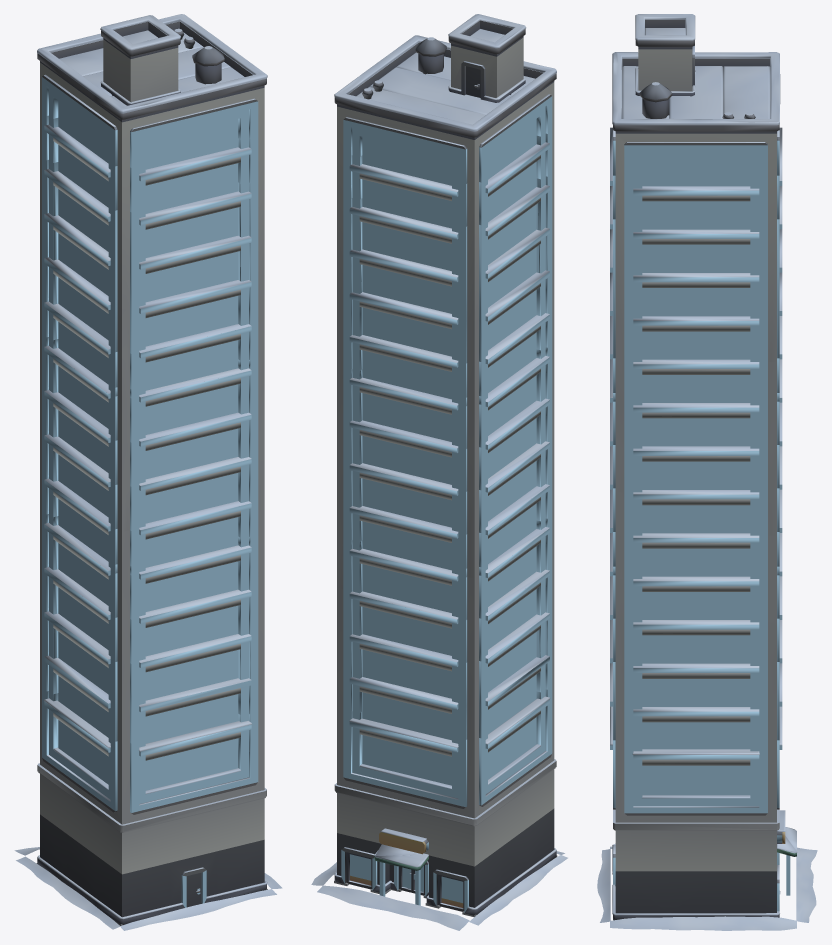
File: tower_c.glb
3 views of the same model, side by side, from view 1: azimuth 30°, elevation 25°; view 2: azimuth 150°, elevation 25°; view 3: azimuth 270°, elevation 25° (orthographic). The views are drawn at different scales.
Visible parts, largest first — view 1: Base, Shaft_1, Shaft_2, Shaft_0, Roof, Shaft_3; view 2: Base, Shaft_2, Shaft_0, Shaft_1, Roof, Shaft_3; view 3: Base, Shaft_2, Shaft_1, Shaft_0, Roof, Shaft_3.
Part boxes in pixels (left/top/right/bottom): Base: left=14, top=684, right=282, bottom=930; Shaft_1: left=40, top=330, right=264, bottom=567; Shaft_2: left=40, top=153, right=264, bottom=390; Shaft_0: left=40, top=507, right=264, bottom=744; Roof: left=37, top=14, right=267, bottom=168; Shaft_3: left=40, top=109, right=264, bottom=213; Base: left=311, top=683, right=567, bottom=930; Shaft_2: left=337, top=170, right=554, bottom=398; Shaft_0: left=337, top=512, right=554, bottom=740; Shaft_1: left=337, top=341, right=554, bottom=569; Roof: left=334, top=14, right=556, bottom=185; Shaft_3: left=337, top=127, right=554, bottom=227; Base: left=597, top=706, right=817, bottom=930; Shaft_2: left=610, top=186, right=782, bottom=397; Shaft_1: left=610, top=359, right=782, bottom=571; Shaft_0: left=610, top=533, right=782, bottom=744; Roof: left=612, top=14, right=780, bottom=180; Shaft_3: left=610, top=127, right=782, bottom=223.
Size of what is drawn, in the model's own units: 16.17 by 74.28 by 17.49.
